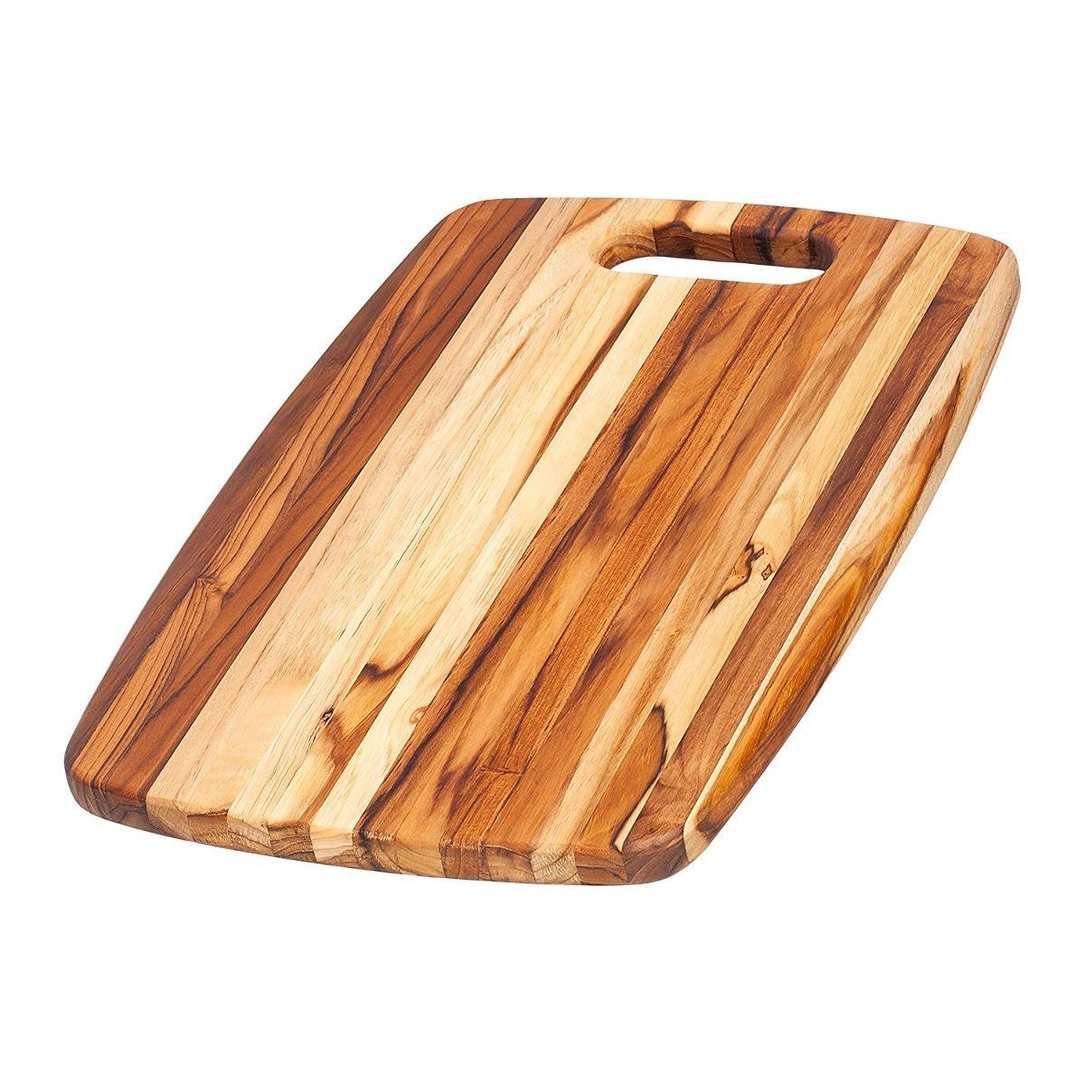gloved_hand: (43, 181, 1028, 895)
